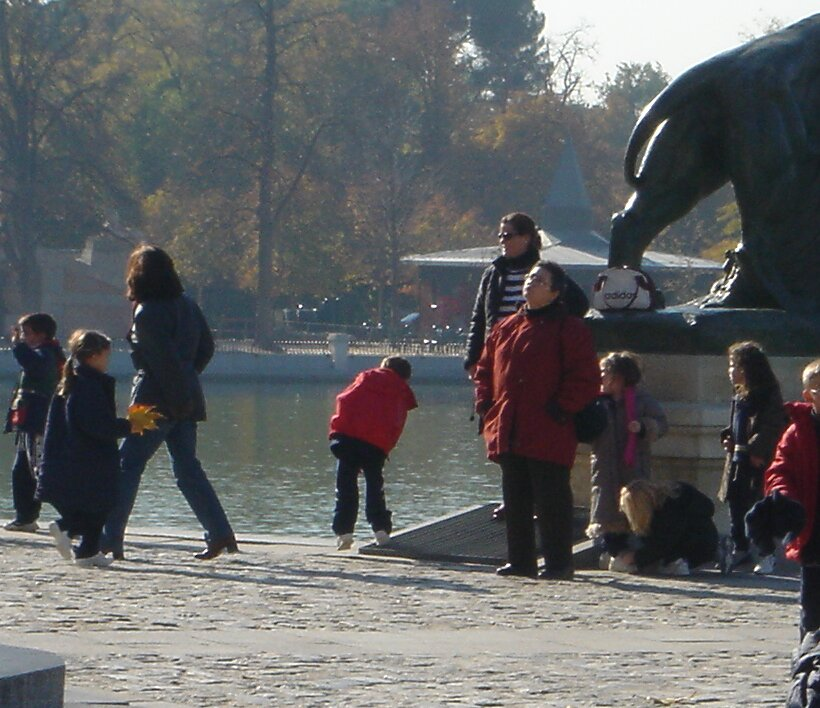person: (104, 235, 244, 557), (479, 258, 594, 582), (321, 340, 421, 554)
